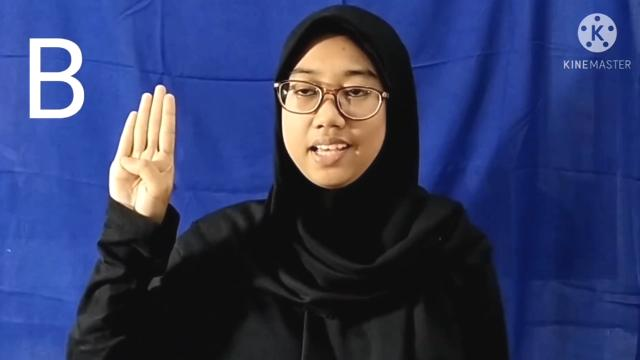B: (107, 82, 175, 229)
